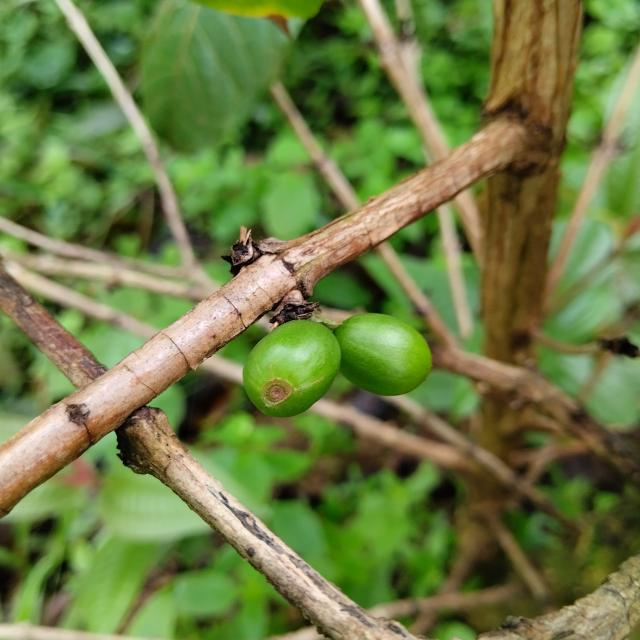green: (243, 320, 341, 417), (334, 313, 432, 396)
